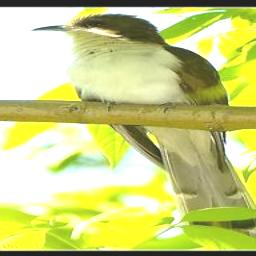Cuckoo: (31, 13, 256, 245)
